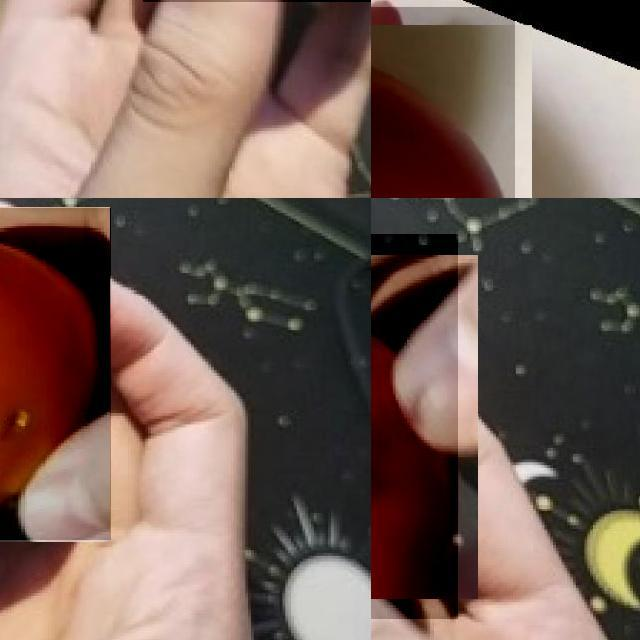Fresh Tomato: (371, 234, 458, 619), (371, 7, 515, 198)
Rotten Tomato: (0, 207, 111, 540)
